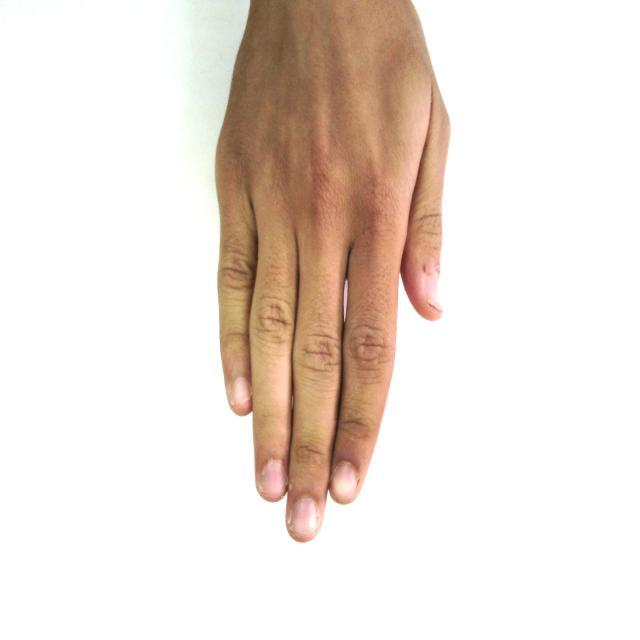Fingernail: (331, 462, 359, 503), (291, 497, 318, 534), (261, 461, 286, 497), (425, 273, 443, 311), (233, 377, 250, 403)
